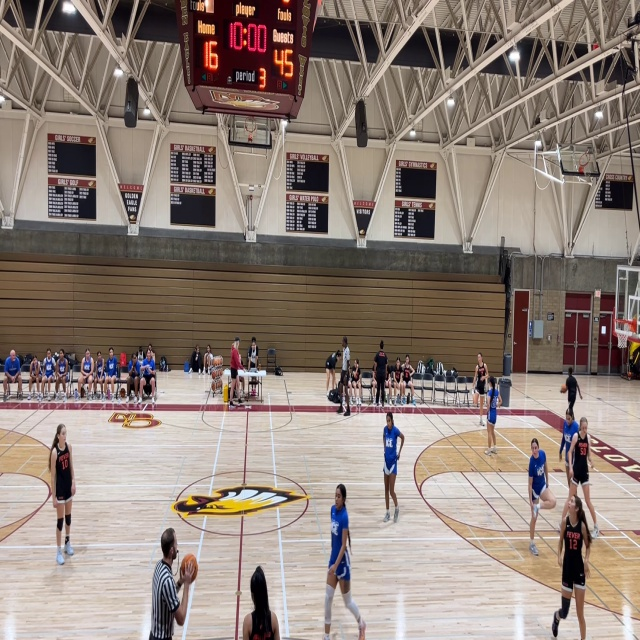Basketball: (180, 554, 198, 581)
